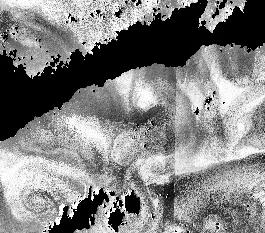CE: (18, 185, 59, 216)
